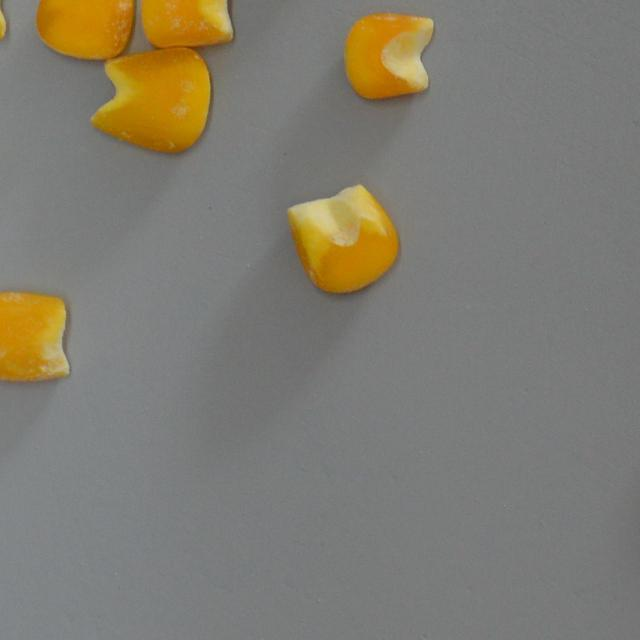no_canjicado: (284, 182, 398, 293), (344, 12, 432, 100)
pelicula: (91, 48, 212, 154), (0, 290, 72, 384), (32, 0, 134, 60), (138, 0, 234, 48)
